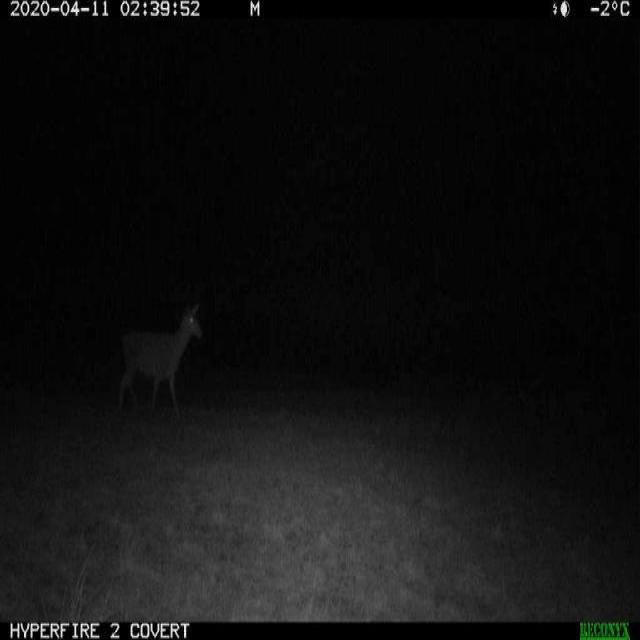deer: (117, 298, 206, 425)
